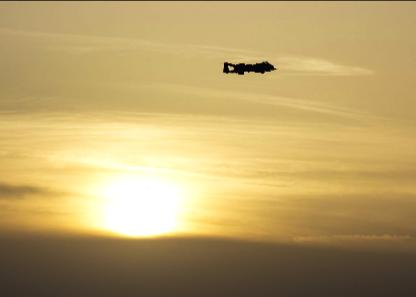A10: (223, 60, 278, 74)
